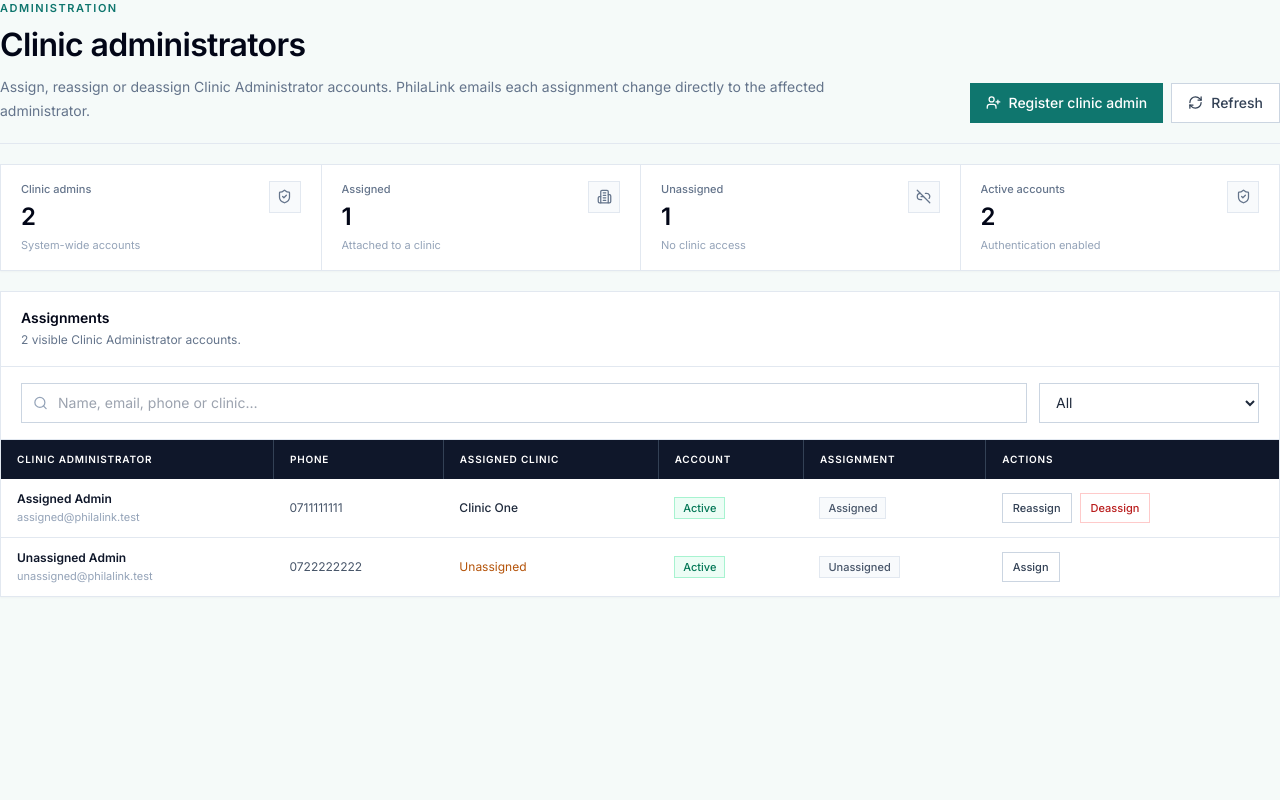
Test: ManageClinicAdminsPage › assigns an unassigned ClinicAdmin to an active clinic
Expected: the text "Unassigned Admin" is shown, [17,550,126,564]
Click the button "Assign" at (1031, 566), box [1002,552,1060,582]
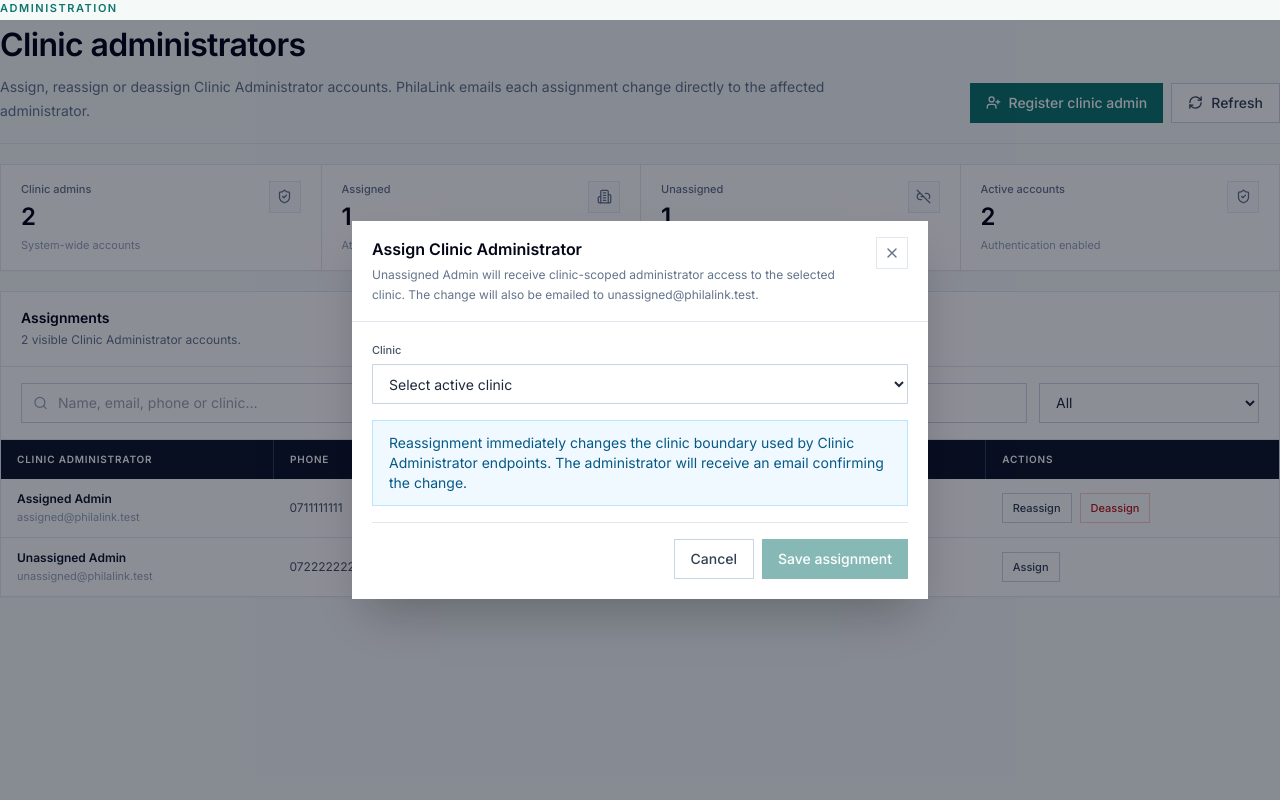
Select "Clinic Two" in the dropdown labelled "Clinic" at (640, 384), box [372,364,908,404]
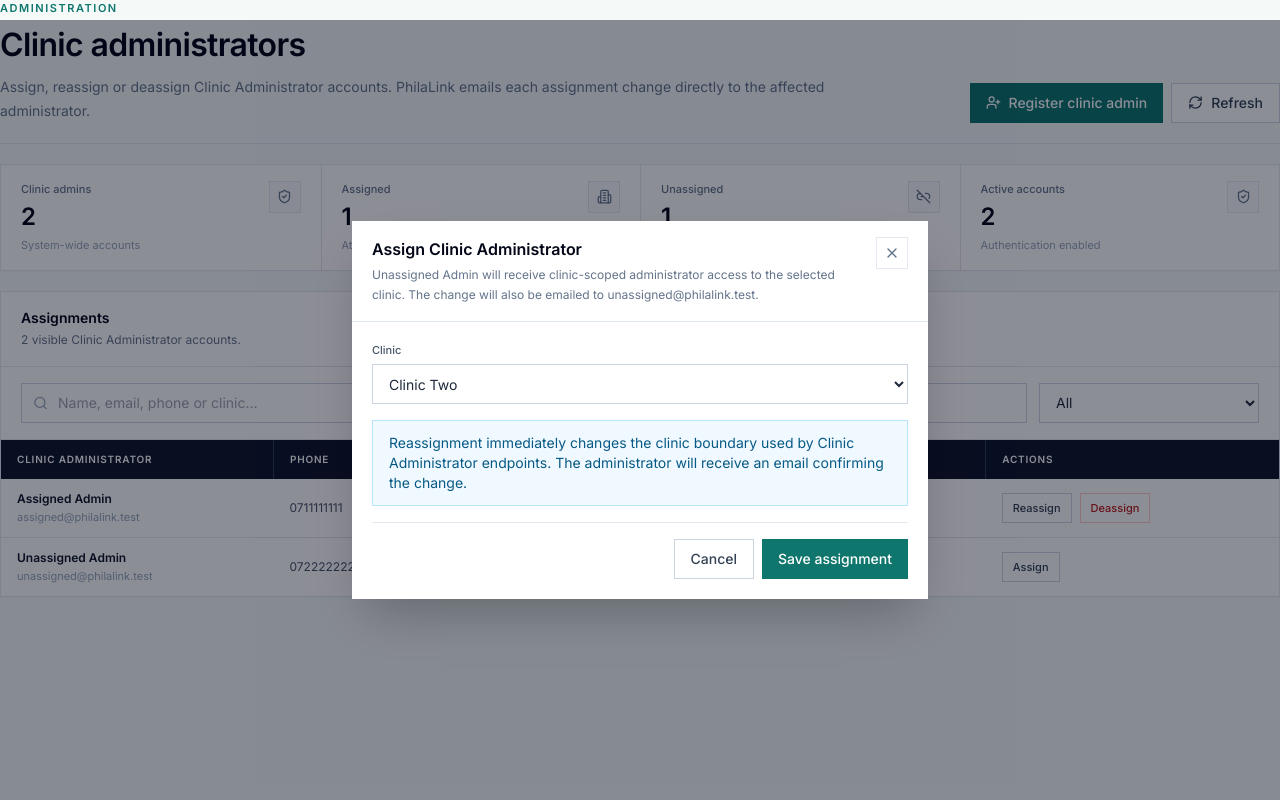
Click the button "Save assignment" at (835, 559), box [762,539,908,579]
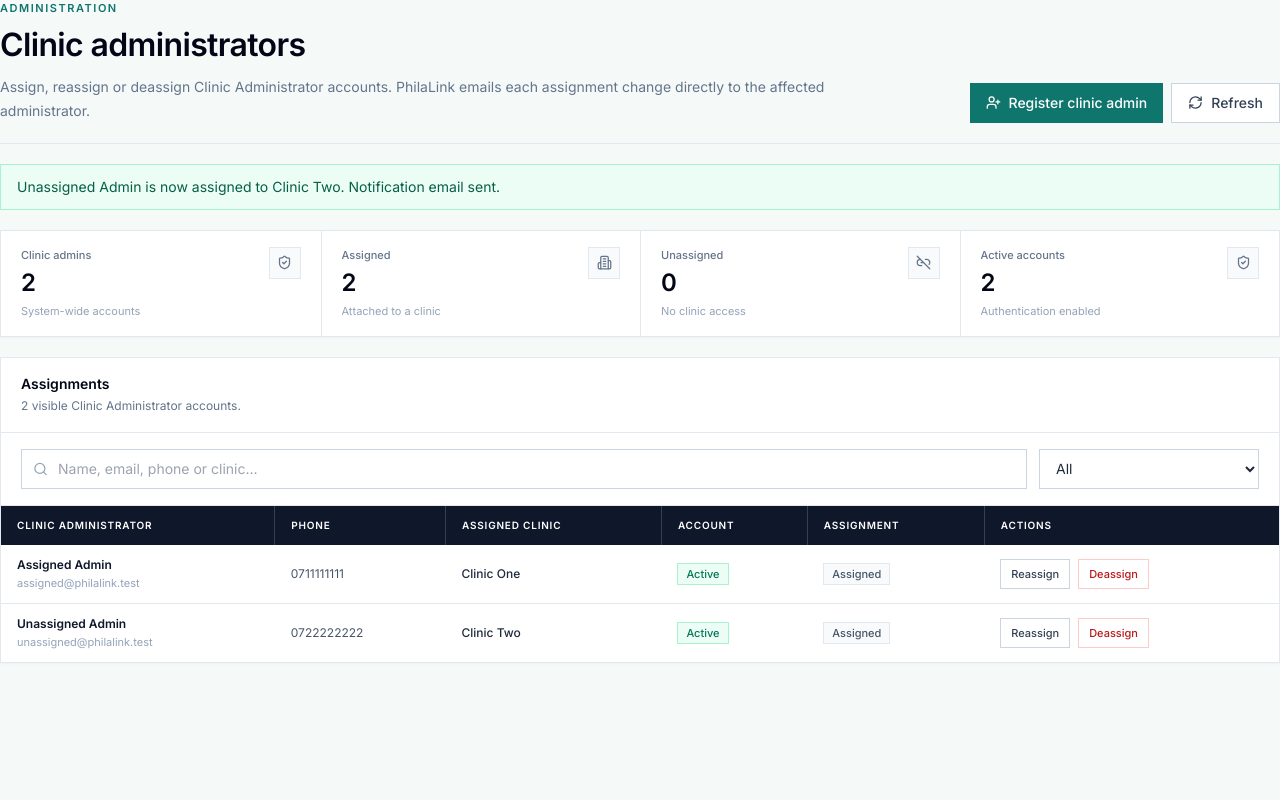
Expected: the text "is now assigned to Clinic Two" is shown, [17,178,500,194]
